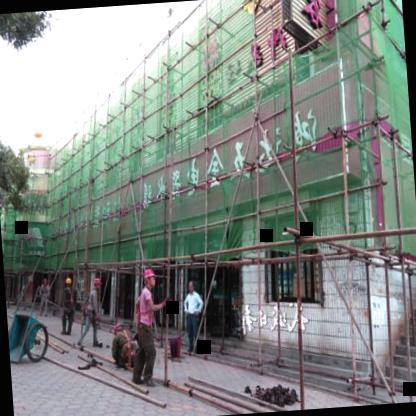helmet: (140, 264, 160, 292), (110, 321, 126, 337), (90, 274, 102, 292)
